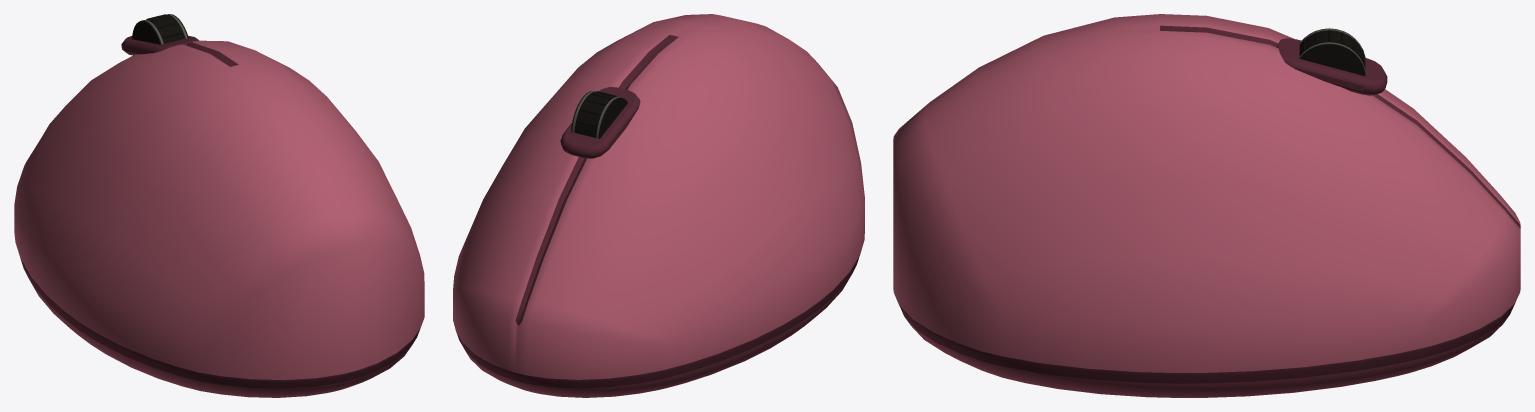
The model's file is SM_StudyMouse.fbx.
3 renders of one model, left to right at view 1: azimuth 30°, elevation 25°; view 2: azimuth 150°, elevation 25°; view 3: azimuth 270°, elevation 25°, orthographic. The views are drawn at different scales.
Parts seen in each view (by area): view 1: SM_StudyMouse; view 2: SM_StudyMouse; view 3: SM_StudyMouse.
Boxes of the visible parts, x1=… form: SM_StudyMouse: x1=14, y1=14, x2=424, y2=397; SM_StudyMouse: x1=453, y1=14, x2=864, y2=397; SM_StudyMouse: x1=893, y1=14, x2=1520, y2=397.
Bounding box in the file's own units: 0.0883 × 0.1365 × 0.0723.
